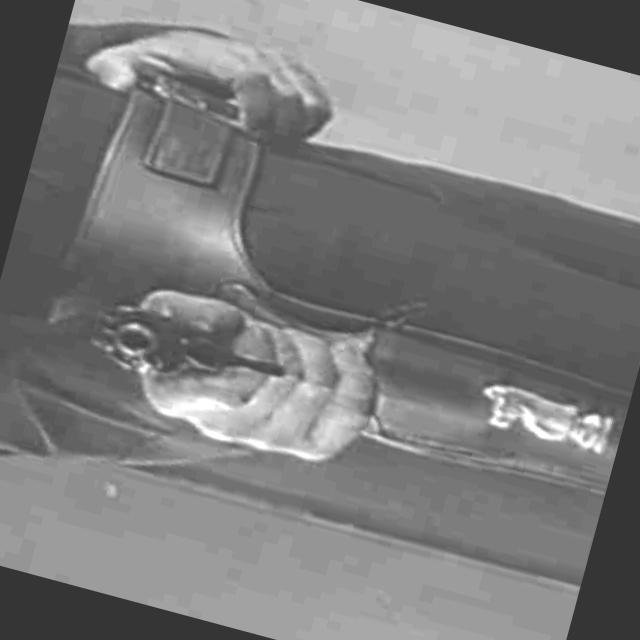handgun: (81, 292, 300, 408)
